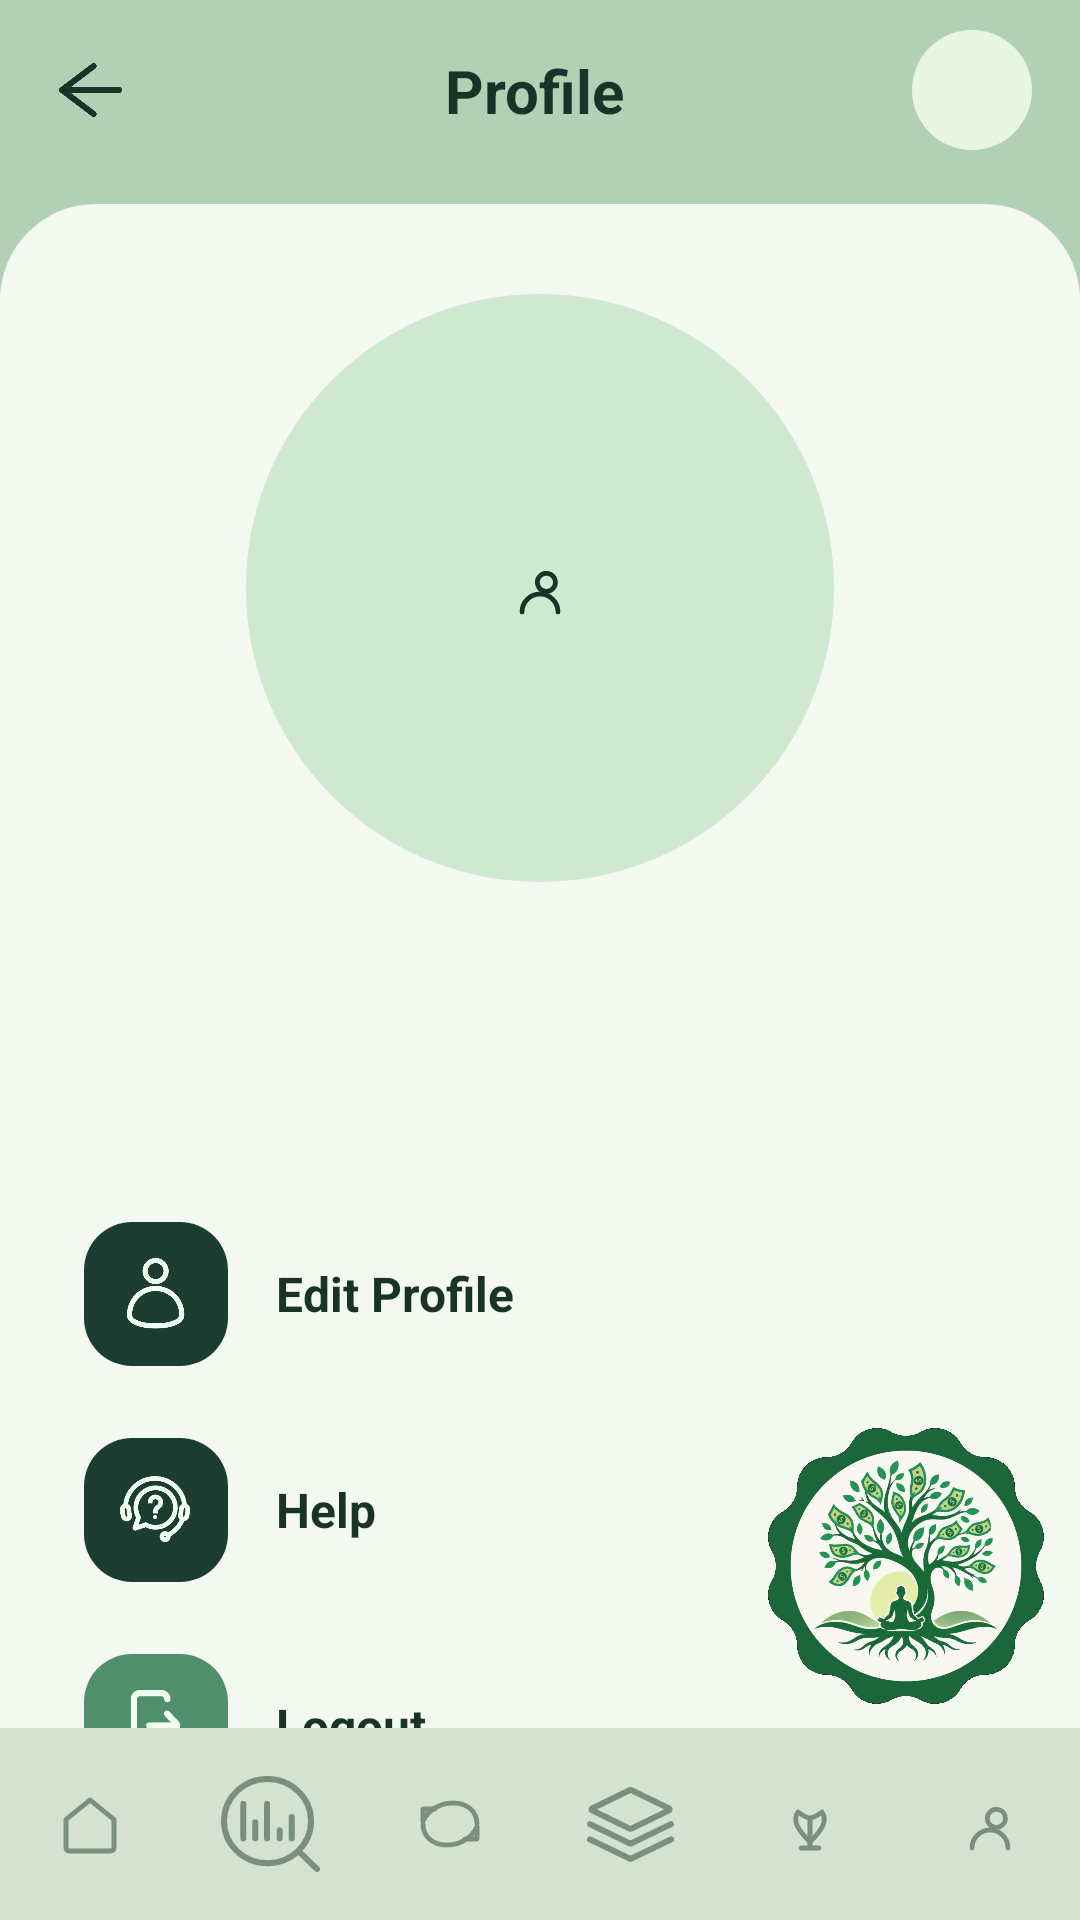

Icons on this 1080 × 1920 Android screen, each with its box as (x1, y1, x2, y2):
Analytics: (221, 1776, 320, 1872)
Back: (59, 63, 122, 117)
Categories: (587, 1787, 674, 1862)
Goals: (793, 1809, 827, 1851)
Home: (63, 1797, 117, 1854)
Transactions: (420, 1800, 480, 1848)
